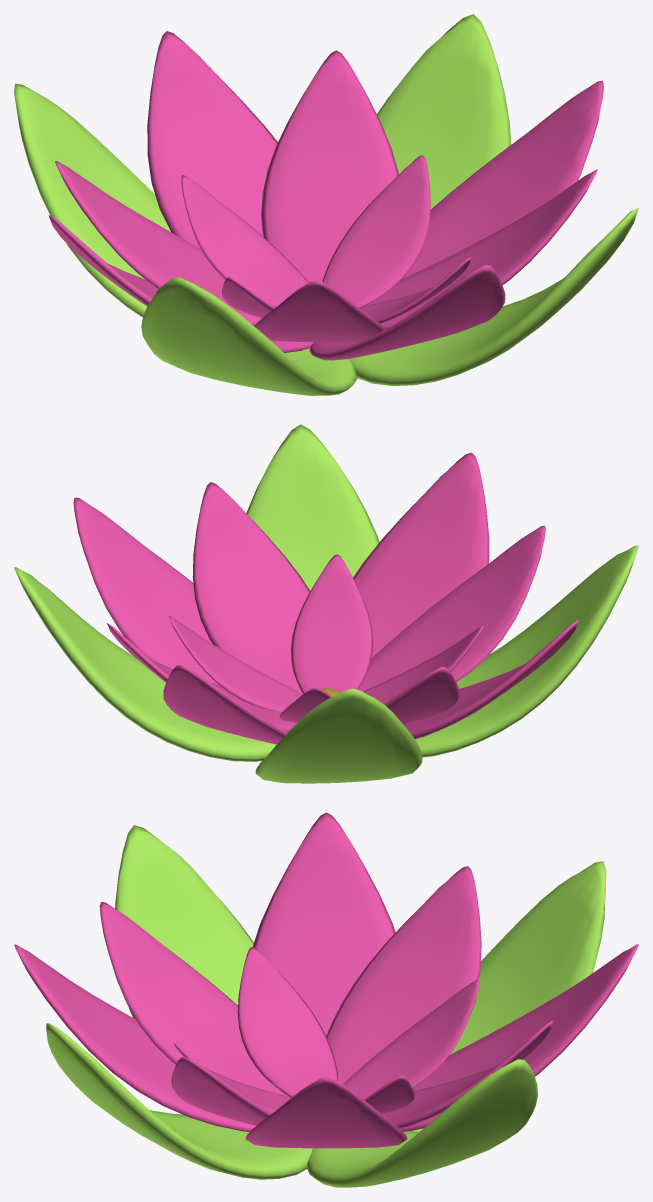
File: flower.fbx
3 renders of one model, top to bottom at view 1: azimuth 30°, elevation 25°; view 2: azimuth 150°, elevation 25°; view 3: azimuth 270°, elevation 25°, orthographic. The views are drawn at different scales.
Parts seen in each view (by area): view 1: Cube; view 2: Cube; view 3: Cube.
Boxes of the visible parts, <box> form: Cube: <box>14,14,638,395</box>; Cube: <box>14,424,638,783</box>; Cube: <box>14,812,638,1187</box>.
Bounding box in the file's own units: 80.86 × 28.16 × 80.86.
